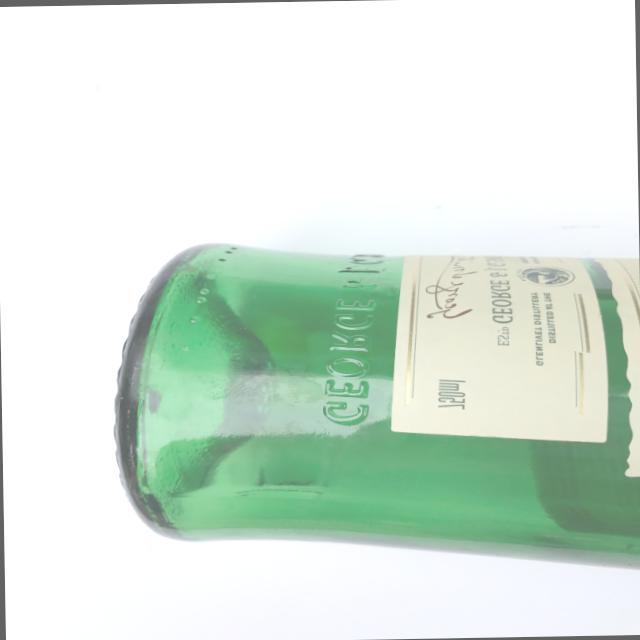Glass: (88, 223, 640, 591)
